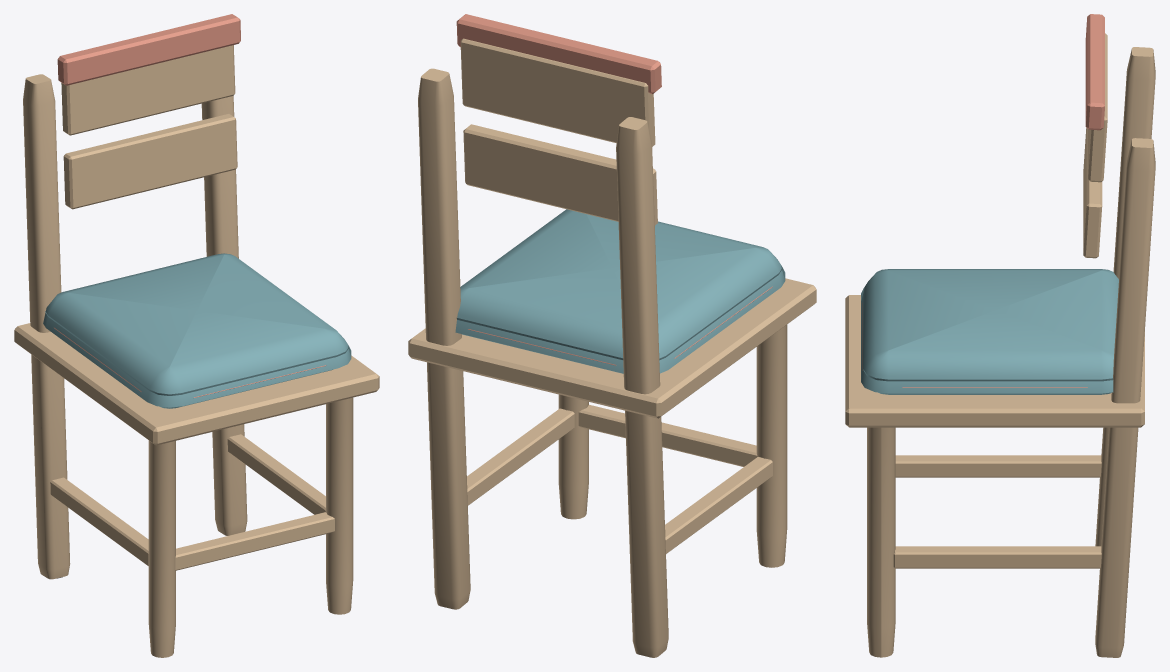
File: care-home-and-day-room-dining-chair-2a5df4b2__35735.glb
3 views of the same model, side by side, from view 1: azimuth 30°, elevation 25°; view 2: azimuth 150°, elevation 25°; view 3: azimuth 270°, elevation 25° (orthographic). The views are drawn at different scales.
Visible parts, largest first — view 1: dining-chair; view 2: dining-chair; view 3: dining-chair.
Boxes of the visible parts, x1,y1,x2,y2 form: dining-chair: (14, 14, 379, 657); dining-chair: (408, 14, 816, 657); dining-chair: (845, 14, 1155, 657).
Size of the model in its own units: 0.46 by 1.01 by 0.5179.
